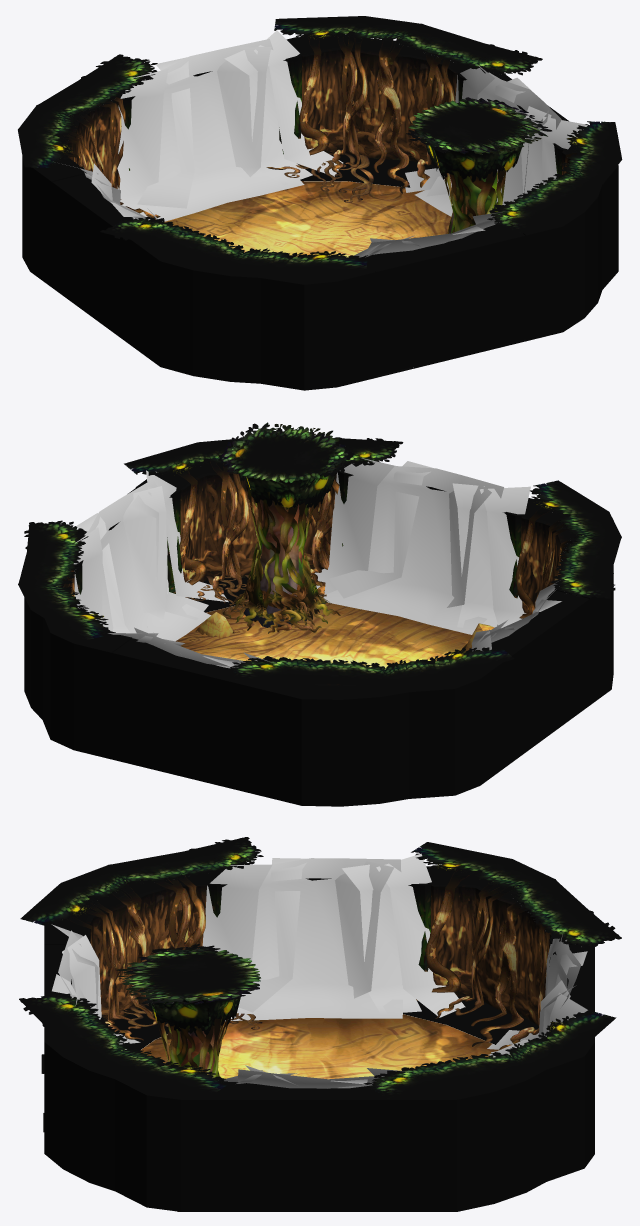
File: Dungeon_021_StartRoom_001_009.fbx
The picture shows the model from 3 angles, top to bottom: view 1: azimuth 30°, elevation 25°; view 2: azimuth 150°, elevation 25°; view 3: azimuth 270°, elevation 25°; orthographic projection. The views are drawn at different scales.
Parts seen in each view (by area): view 1: Dun_011_StartRoom_001_wall, un_021_Door_002_Object1 (×4), un_021_Door_002 (×4), Dungeon_021_Tsuta_002, Dun_011_StartRoom_001_ground, Dungeon_021_Tsuta_001, Dungeon_021_Object_010, Dungeon_021_Object_011, Dun_011_StartRoom_001_shadow, Dungeon_021_Tsuta_003; view 2: Dun_011_StartRoom_001_wall, un_021_Door_002_Object1 (×4), un_021_Door_002 (×4), Dungeon_021_Tsuta_002, Dun_011_StartRoom_001_ground, Dungeon_021_Object_010, Dungeon_021_Object_011, Dungeon_021_Tsuta_001, Dungeon_011_Object_010, Dun_011_StartRoom_001_shadow, Dungeon_011_Object_013; view 3: Dun_011_StartRoom_001_wall, un_021_Door_002_Object1 (×4), un_021_Door_002 (×4), Dungeon_021_Tsuta_002, Dun_011_StartRoom_001_ground, Dungeon_021_Tsuta_001, Dungeon_021_Object_010, Dun_011_StartRoom_001_shadow, Dungeon_021_Object_011, Dungeon_011_Object_010.
Boxes of the visible parts, x1,y1,x2,y2 form: Dun_011_StartRoom_001_wall: (22,34,618,390); un_021_Door_002_Object1 (×4): (62,30,587,257); un_021_Door_002 (×4): (34,37,579,377); Dungeon_021_Tsuta_002: (18,16,622,274); Dun_011_StartRoom_001_ground: (155,181,451,257); Dungeon_021_Tsuta_001: (60,34,576,217); Dungeon_021_Object_010: (406,97,551,182); Dungeon_021_Object_011: (444,167,506,233); Dun_011_StartRoom_001_shadow: (298,154,525,376); Dungeon_021_Tsuta_003: (266,151,373,202); Dun_011_StartRoom_001_wall: (24,462,613,806); un_021_Door_002_Object1 (×4): (73,458,561,668); un_021_Door_002 (×4): (71,462,591,796); Dungeon_021_Tsuta_002: (18,437,621,685); Dun_011_StartRoom_001_ground: (176,596,471,668); Dungeon_021_Object_010: (218,422,354,509); Dungeon_021_Object_011: (222,484,340,633); Dungeon_021_Tsuta_001: (62,462,577,628); Dungeon_011_Object_010: (244,499,306,627); Dun_011_StartRoom_001_shadow: (189,577,497,625); Dungeon_011_Object_013: (195,612,234,638); Dun_011_StartRoom_001_wall: (44,868,594,1211); un_021_Door_002_Object1 (×4): (51,853,587,1088); un_021_Door_002 (×4): (44,866,594,1211); Dungeon_021_Tsuta_002: (19,837,621,1099); Dun_011_StartRoom_001_ground: (140,1014,498,1211); Dungeon_021_Tsuta_001: (66,870,551,1049); Dungeon_021_Object_010: (116,944,260,1036); Dun_011_StartRoom_001_shadow: (41,996,538,1132); Dungeon_021_Object_011: (157,1017,227,1077); Dungeon_011_Object_010: (179,999,219,1074).
Size of what is drawn, in the model's own units: 10.31 by 3.03 by 10.
